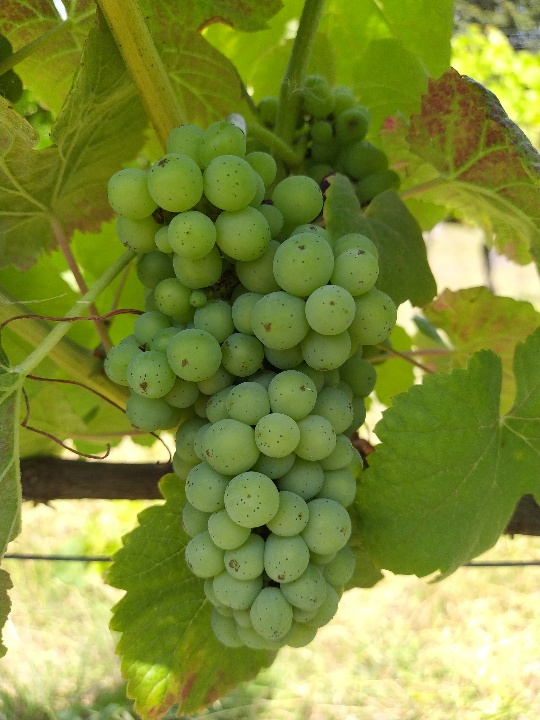grape: (105, 112, 402, 653)
